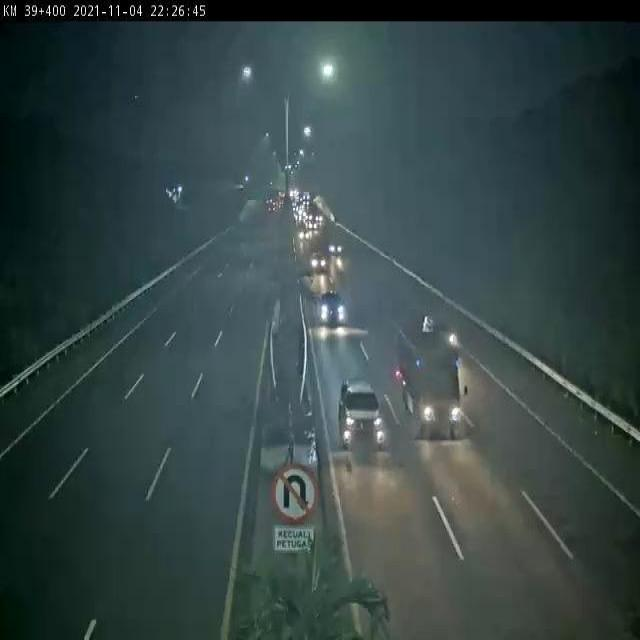car: (338, 379, 386, 453), (319, 291, 346, 328)
truck-m-: (395, 307, 477, 444)
